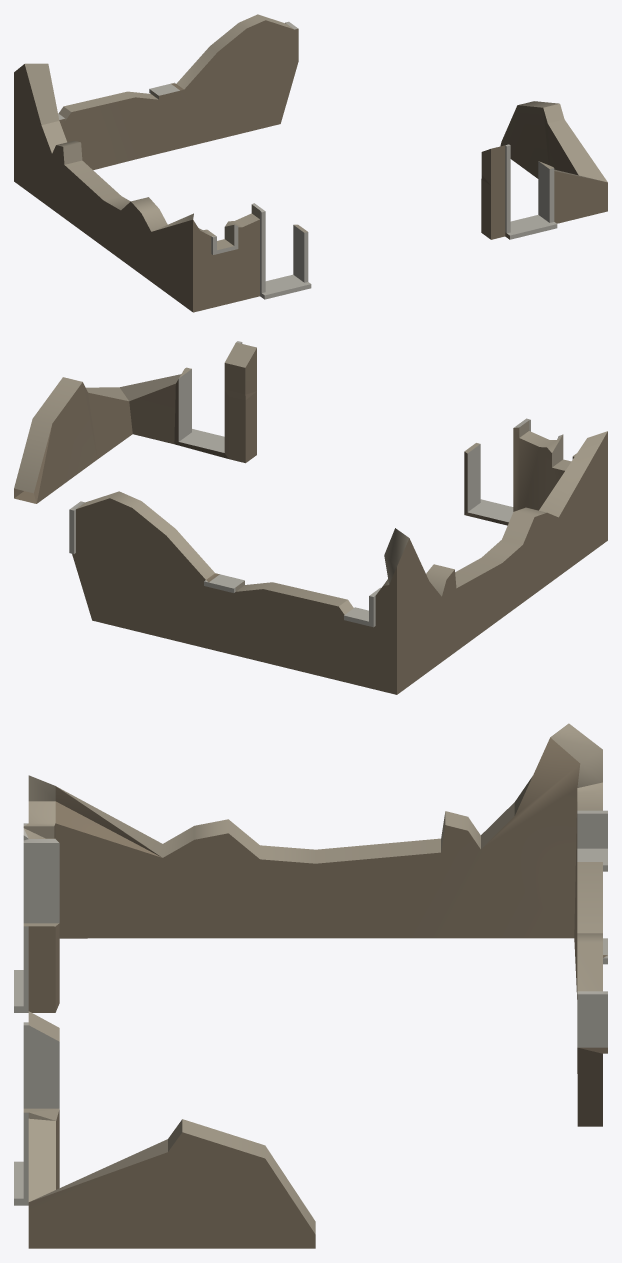
Rendered from HouseDestroyed.fbx.
3 renders of one model, top to bottom at view 1: azimuth 30°, elevation 25°; view 2: azimuth 150°, elevation 25°; view 3: azimuth 270°, elevation 25°, orthographic. The views are drawn at different scales.
Parts seen in each view (by area): view 1: Walls; view 2: Walls; view 3: Walls.
Boxes of the visible parts, x1,y1,x2,y2 form: Walls: [14, 14, 607, 312]; Walls: [14, 341, 607, 694]; Walls: [14, 723, 607, 1248].
Bounding box in the file's own units: 534 × 154 × 413.
